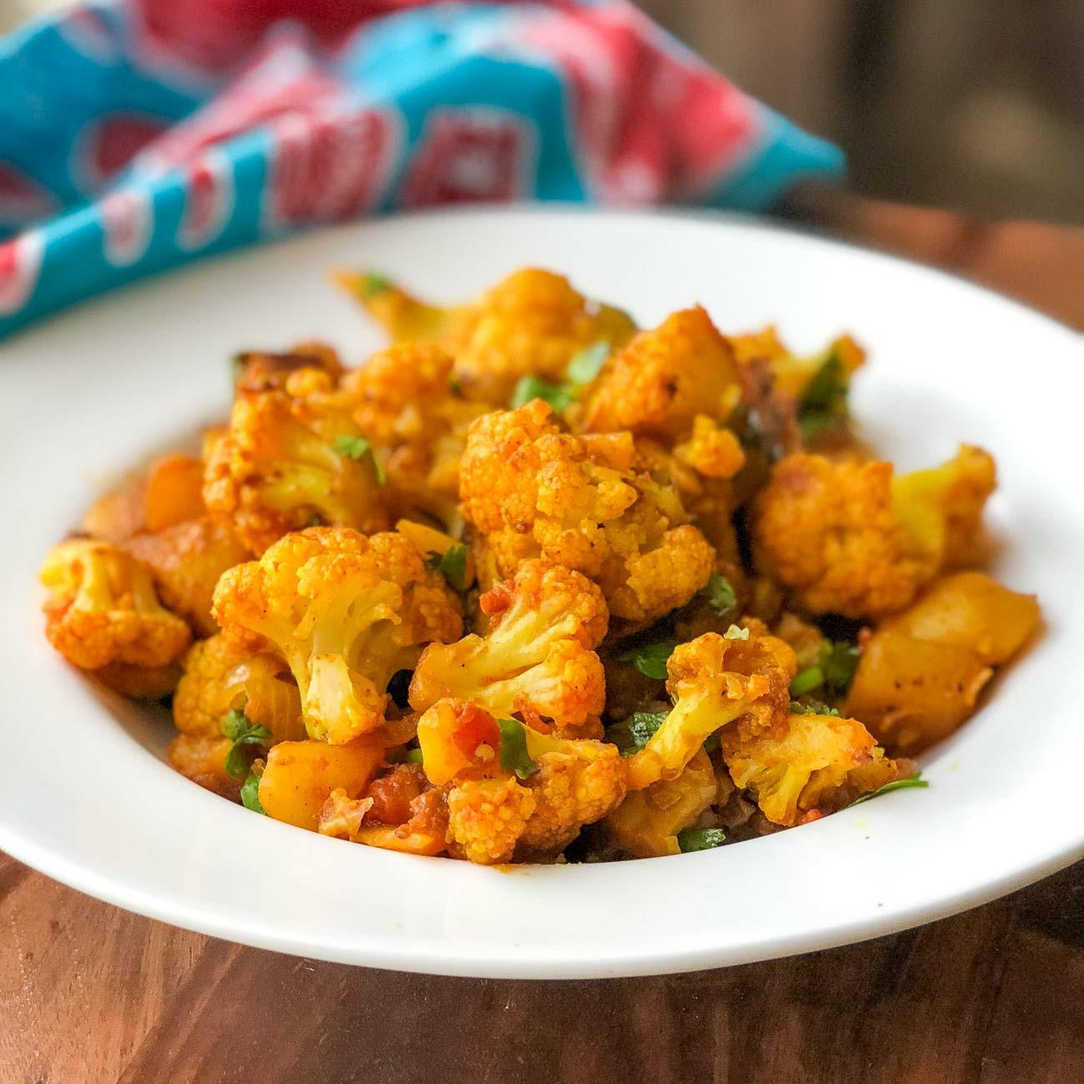AlooGobi: (38, 267, 1038, 865)
